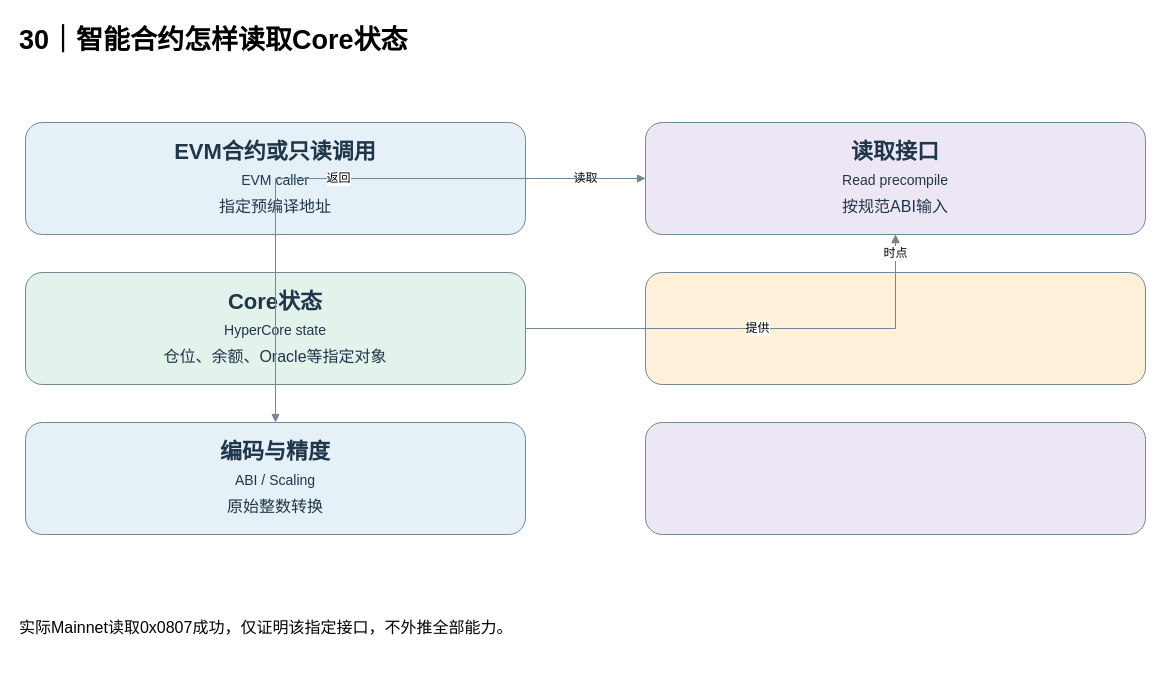
This 1170x690 diagram has some shape labels left out. The shapes that lost their labels are listed below. From the top down, each one's box as (x1, y1, x2, y2) in pixels, then its label:
(644, 272, 1146, 384): EVM构建时点 EVM construction time 读值的业务时点
(644, 422, 1146, 534): 历史边界 Historical limit latest不等于任意历史重放
